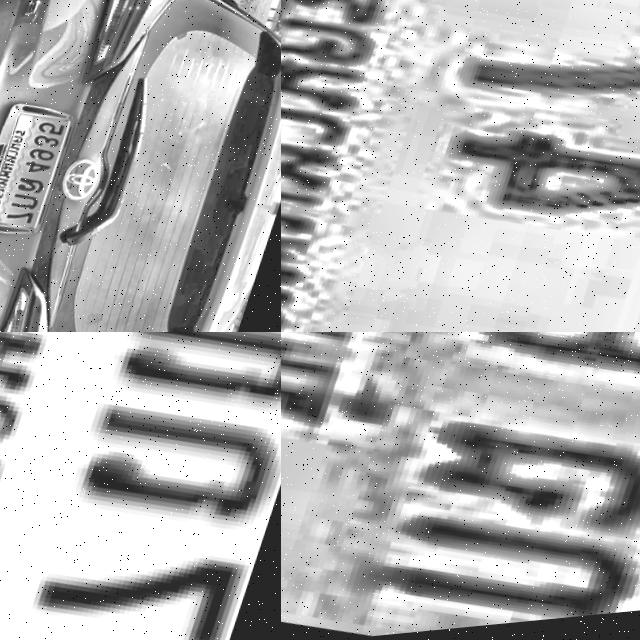license-plate: (281, 0, 640, 332), (281, 332, 640, 640), (0, 332, 281, 640), (0, 99, 87, 254)
